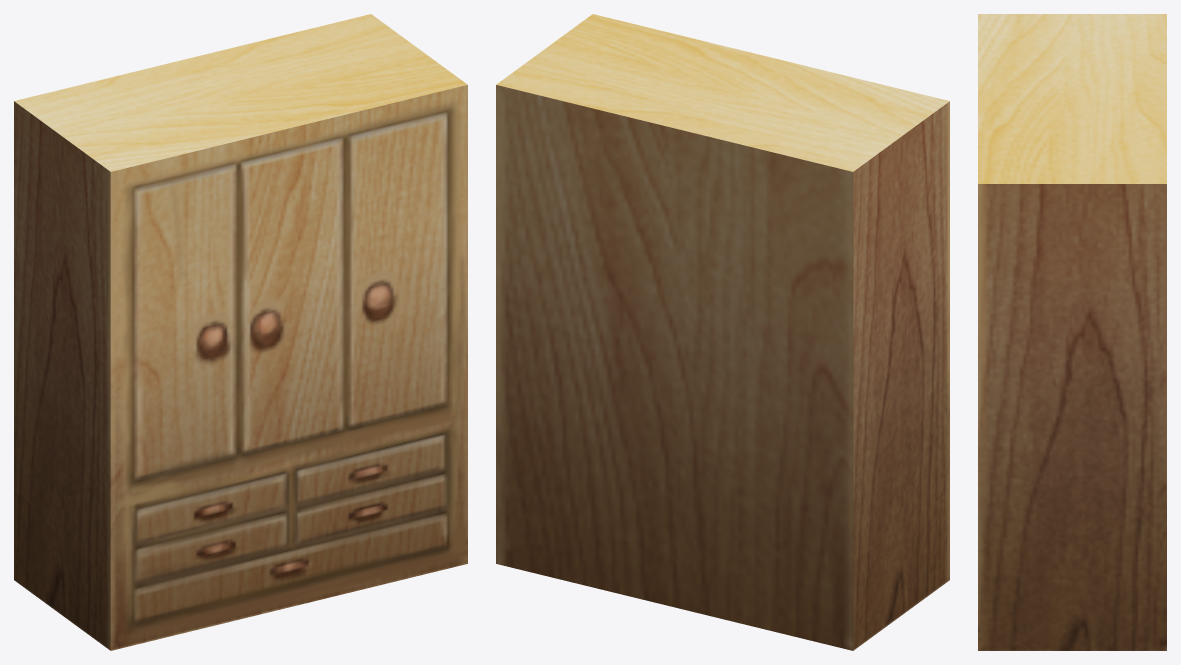
File: chest_1.DAE
The picture shows the model from 3 angles, left to right: view 1: azimuth 30°, elevation 25°; view 2: azimuth 150°, elevation 25°; view 3: azimuth 270°, elevation 25°; orthographic projection. The views are drawn at different scales.
Visible parts, largest first — view 1: chest_1-Pivot; view 2: chest_1-Pivot; view 3: chest_1-Pivot.
Boxes of the visible parts, bbox=[...] form: chest_1-Pivot: bbox=[14, 14, 467, 650]; chest_1-Pivot: bbox=[496, 14, 949, 650]; chest_1-Pivot: bbox=[978, 14, 1166, 650].
Size of the model in its own units: 273 by 349 by 128.
Materials: 1 (1 with a texture image).
